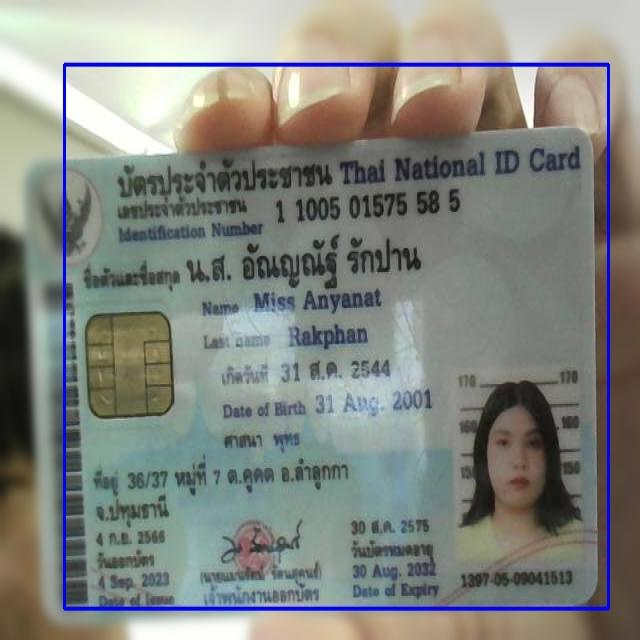Address_th: (87, 450, 352, 531)
Date_of_Birth: (312, 385, 434, 419)
Date_of_Expiry: (349, 562, 439, 582)
Date_of_Issue: (97, 572, 175, 592)
First_Name: (251, 285, 384, 317)
ID_Number: (271, 185, 464, 226)
Image: (452, 368, 585, 564)
Last_Name: (280, 320, 376, 354)
Thai_Name: (182, 230, 452, 290)
